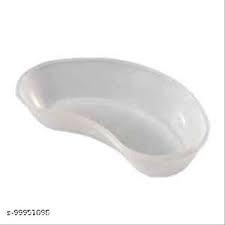Kidney Tray: (14, 56, 210, 181)
